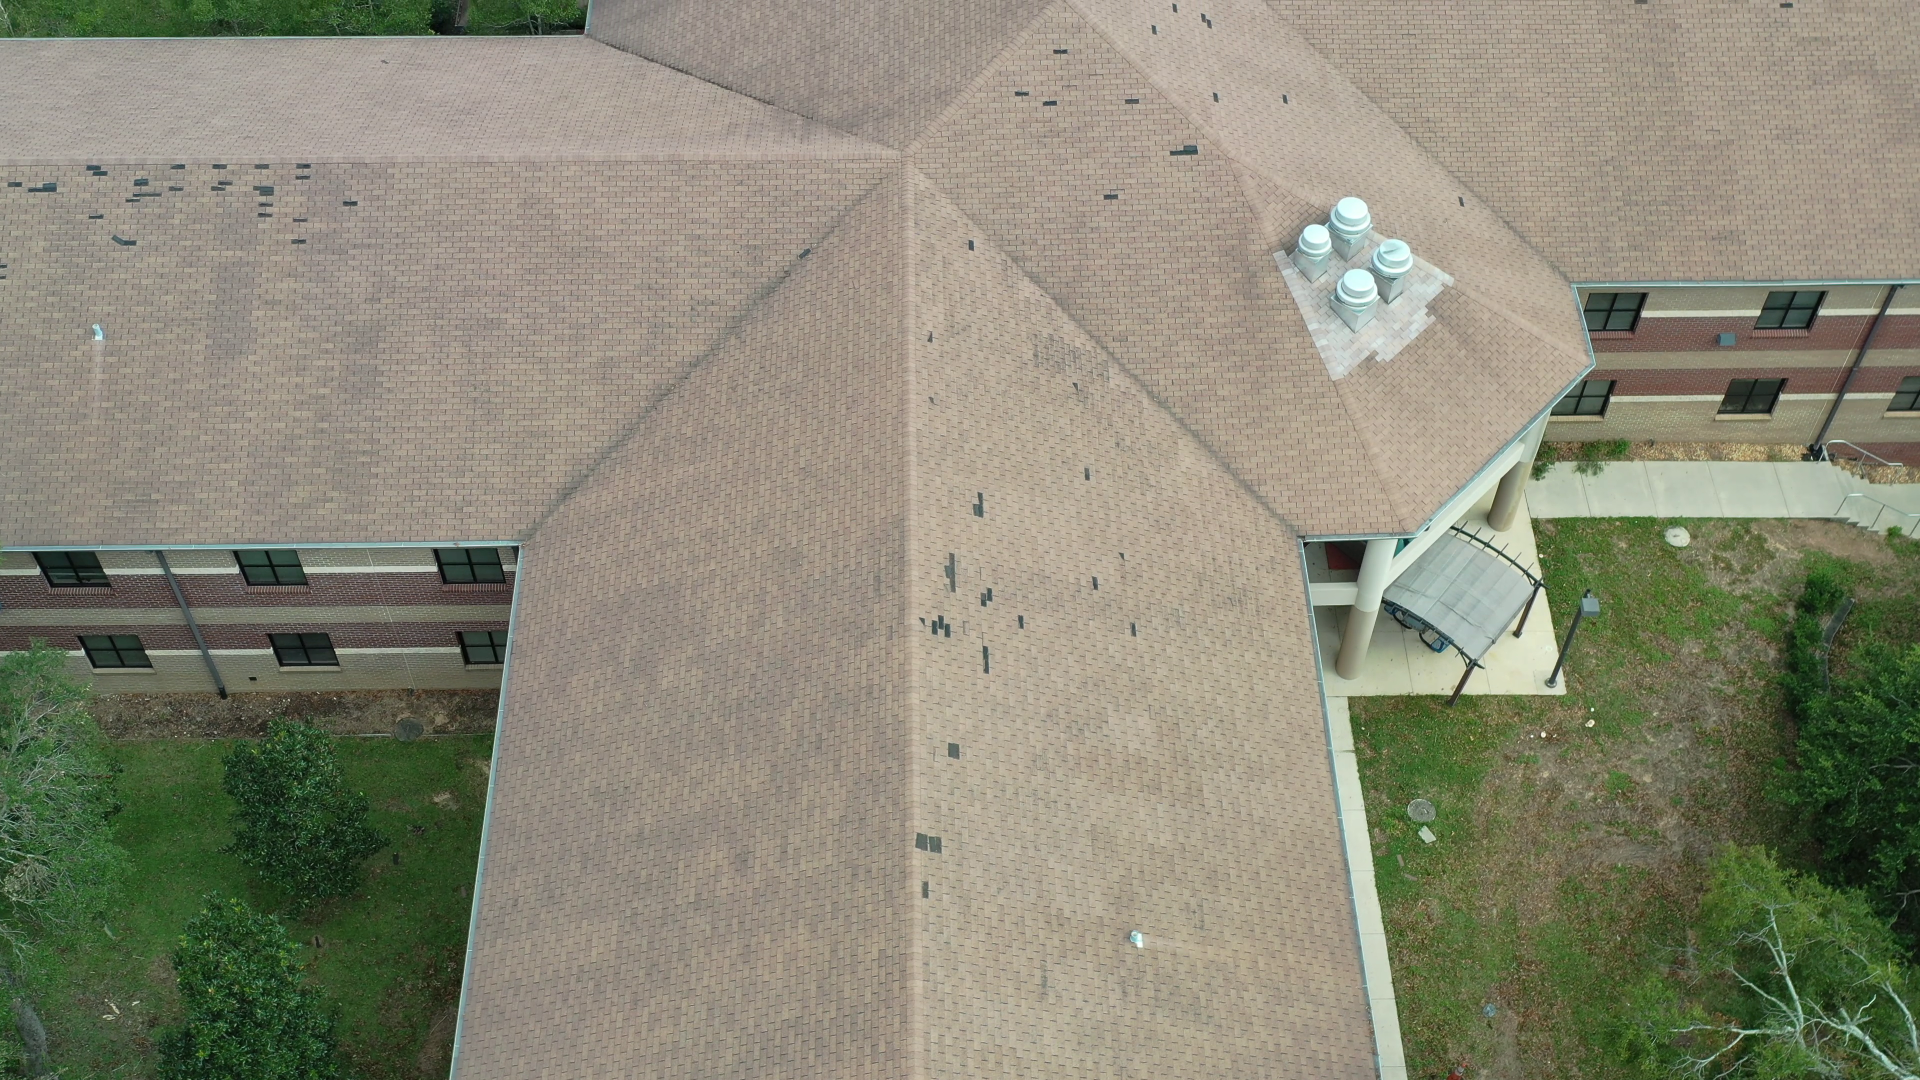Light: (7, 162, 359, 247), (916, 553, 1025, 675), (1091, 553, 1138, 637), (914, 831, 944, 899), (1171, 3, 1215, 30), (1013, 90, 1059, 108), (1168, 145, 1200, 158), (972, 491, 985, 518), (945, 741, 961, 761), (1102, 191, 1120, 202), (1083, 464, 1091, 483), (1052, 47, 1069, 55), (1124, 98, 1139, 105), (1211, 91, 1220, 104), (967, 237, 975, 252), (1150, 22, 1158, 36), (1280, 94, 1288, 105)
